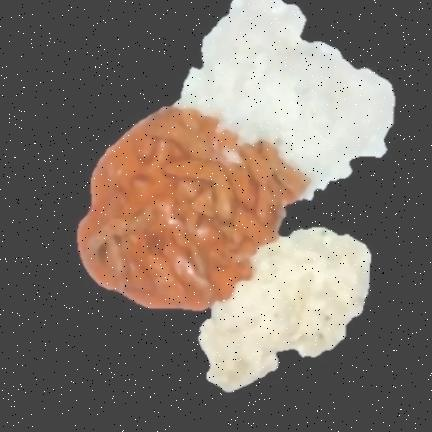meat: (78, 107, 307, 309)
potato: (198, 226, 370, 390)
rice: (176, 0, 394, 198)
